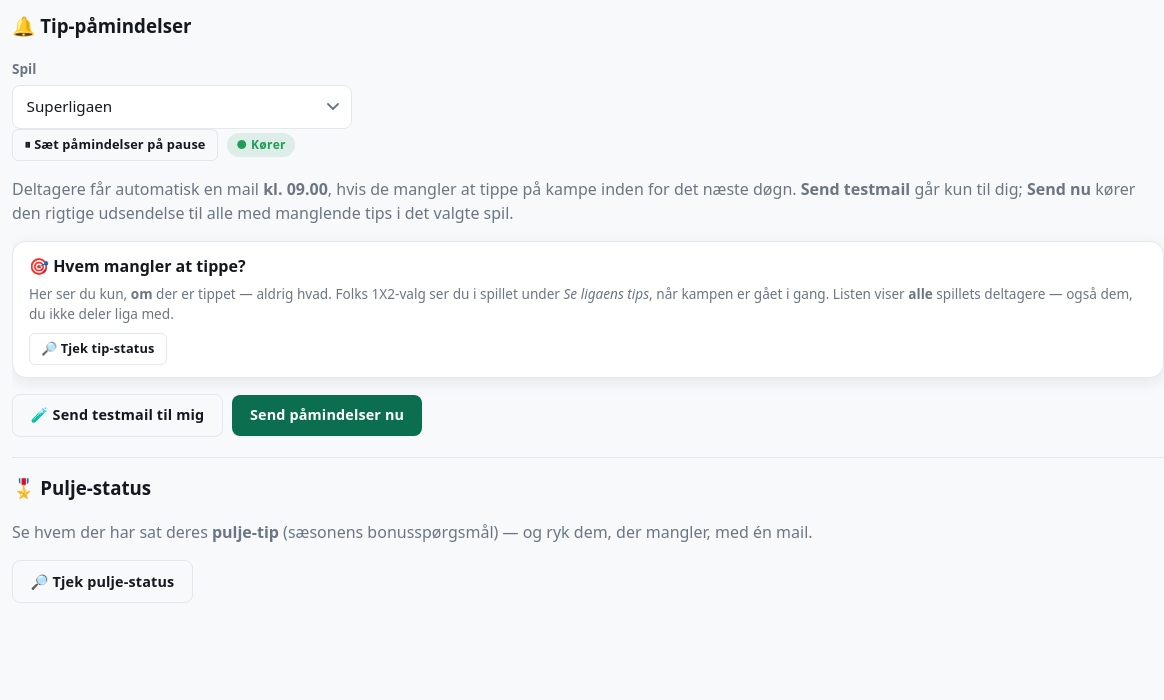
Test: GameReminderTab — Hvem mangler at tippe? › henter kampe én gang, kalder callablen med den AKTIVE runde og viser dækningen
Click the button with test id "tipstatus-tjek".
click(98, 349)  # box [29, 332, 167, 365]
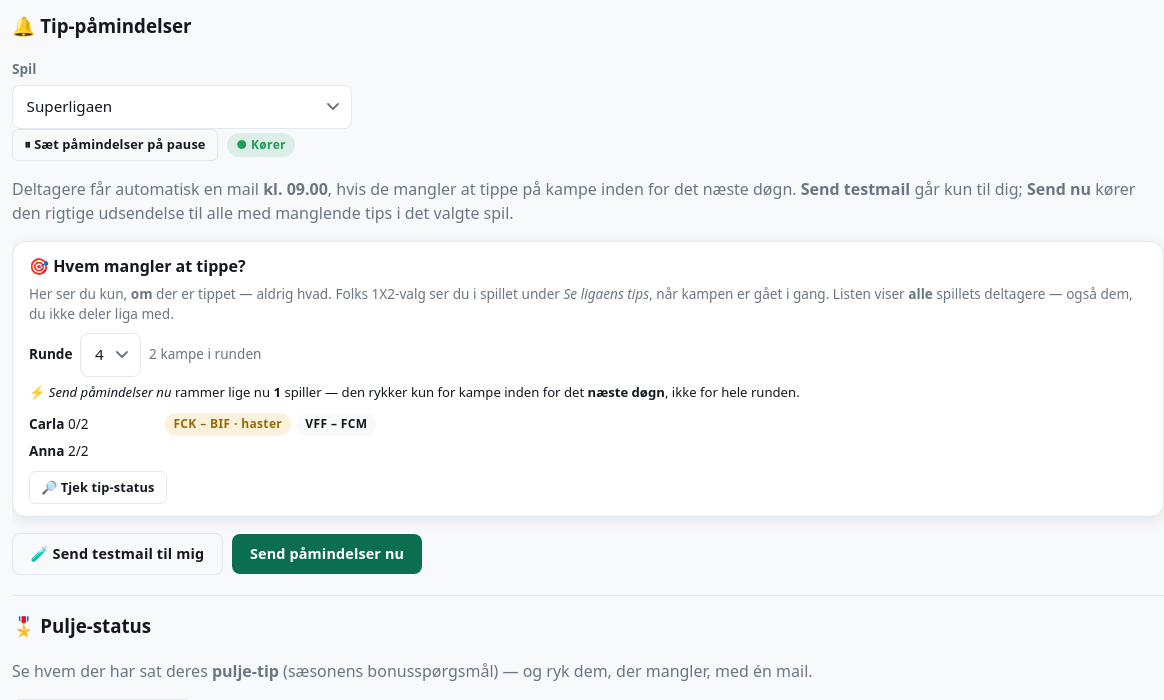
Now the element with test id "tipstatus-resultat" is shown, box [29, 332, 800, 460]
Now the text "Carla" is shown, box [29, 414, 64, 433]
Now the text "FCK – BIF · haster" is shown, box [165, 413, 291, 436]
